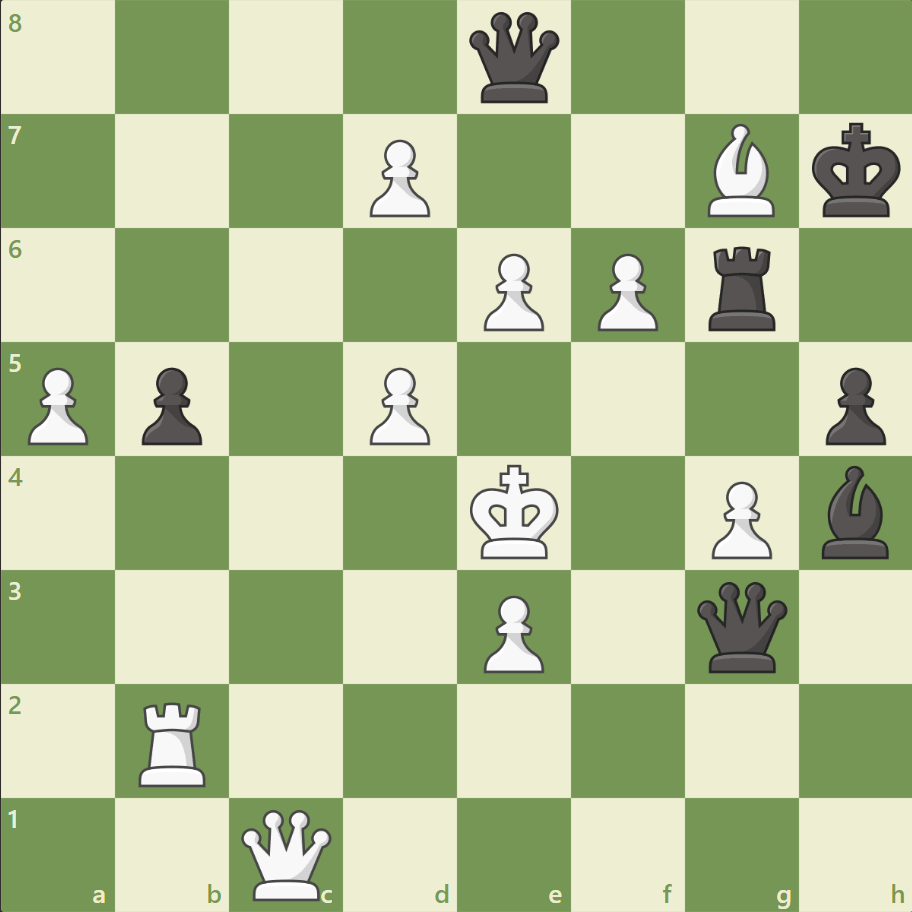B: (698, 120, 782, 222)
K: (465, 458, 565, 566)
P: (474, 246, 549, 337), (20, 359, 95, 450), (701, 473, 776, 564), (474, 586, 549, 677), (361, 132, 435, 223), (588, 246, 662, 337), (361, 359, 435, 450)
Q: (237, 804, 336, 903)
R: (133, 693, 215, 790)
b: (812, 460, 896, 563)
k: (806, 117, 906, 225)
p: (133, 359, 208, 450), (815, 359, 889, 450)
q: (691, 576, 790, 676), (464, 9, 563, 108)
r: (700, 239, 783, 336)
